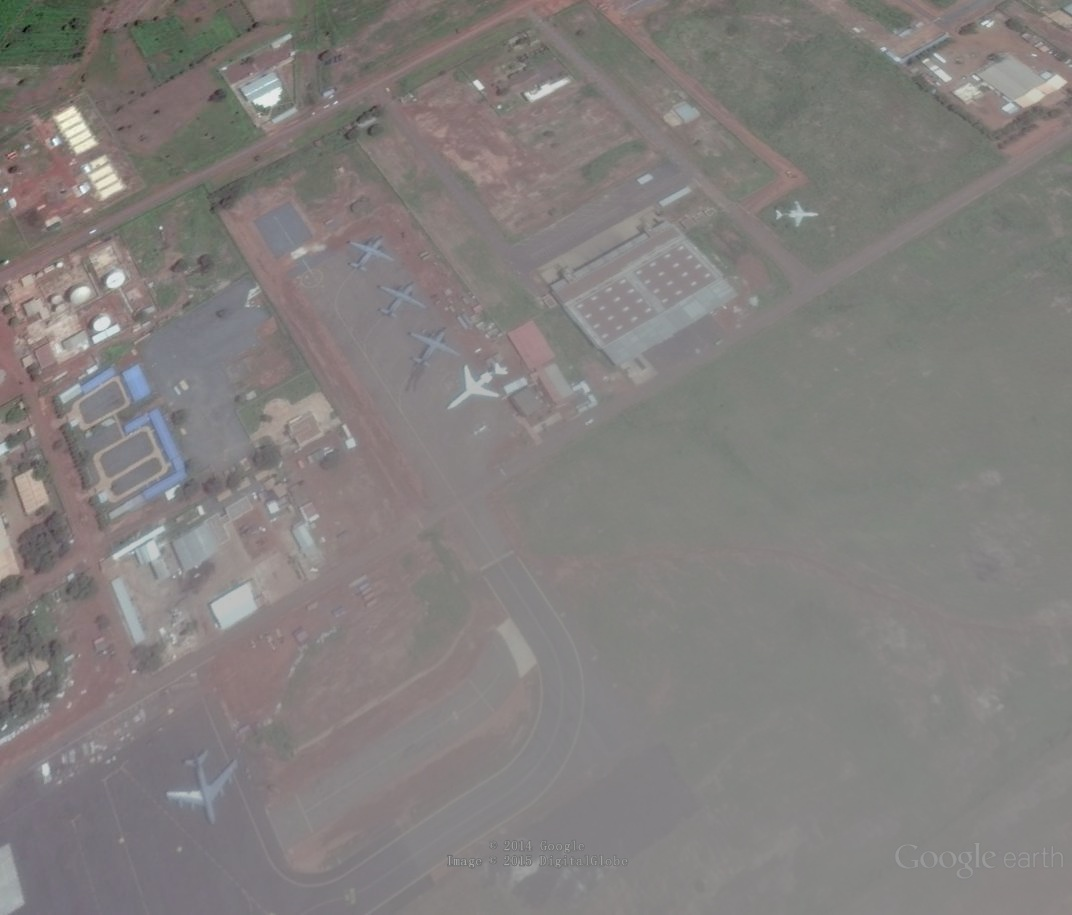aircraft: (164, 747, 240, 826), (444, 362, 514, 415), (405, 326, 465, 373), (373, 278, 430, 321), (347, 234, 397, 276), (771, 199, 821, 232)
